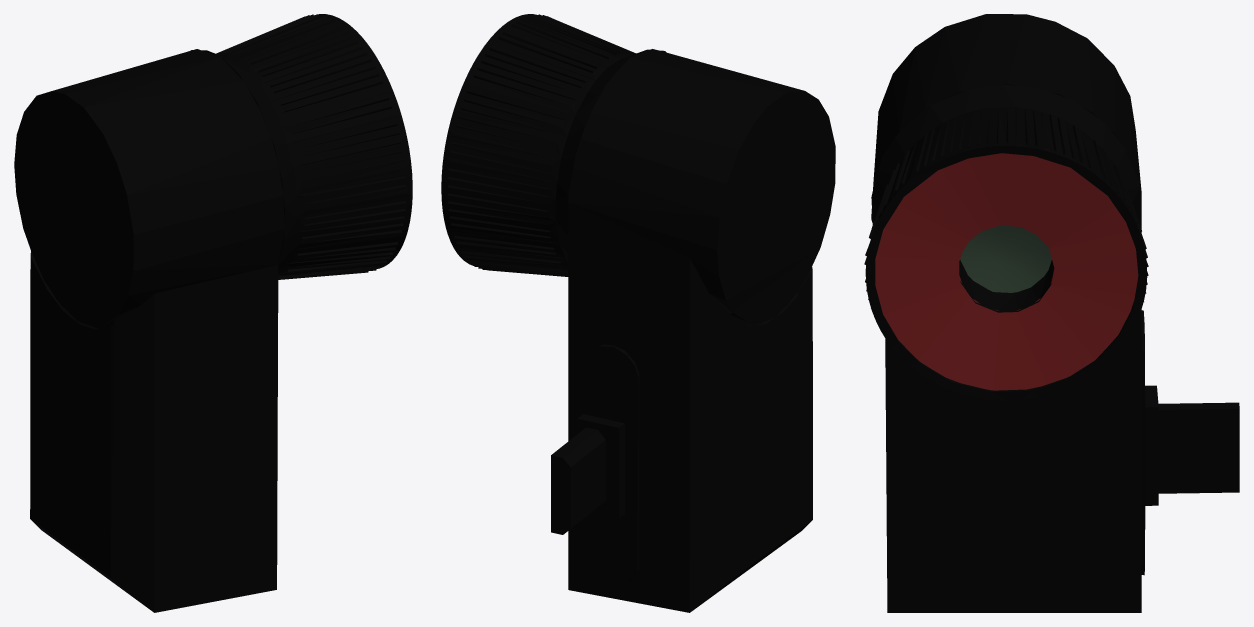
The model's file is seek_thermal_xr.dae.
The picture shows the model from 3 angles, left to right: view 1: azimuth 30°, elevation 25°; view 2: azimuth 150°, elevation 25°; view 3: azimuth 270°, elevation 25°; orthographic projection. The views are drawn at different scales.
Parts seen in each view (by area): view 1: body; view 2: body; view 3: body, cover, lense.
Boxes of the visible parts, x1,y1,x2,y2 form: body: (14,14,412,612); body: (441,14,835,612); body: (864,14,1239,612); cover: (875,153,1138,390); lense: (960,225,1051,292).
Bounding box in the file's own units: 0.025 × 0.0277 × 0.0435.
